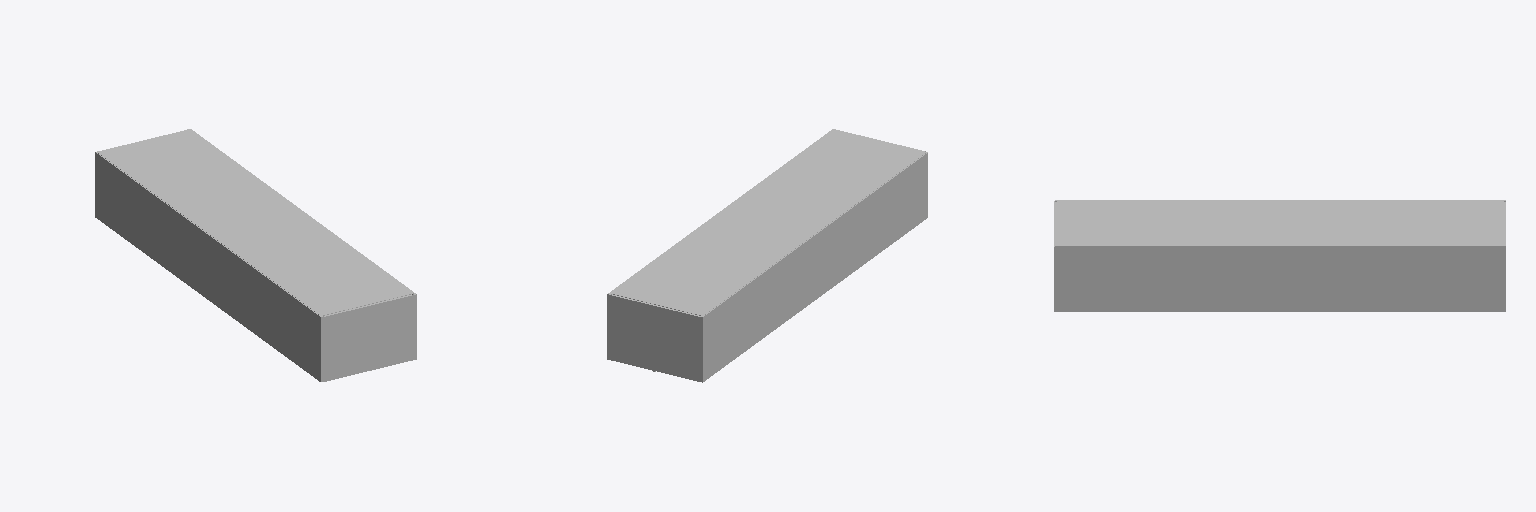
Rendered from lokaal lamp.obj.
3 renders of one model, left to right at view 1: azimuth 30°, elevation 25°; view 2: azimuth 150°, elevation 25°; view 3: azimuth 270°, elevation 25°, orthographic.
Parts seen in each view (by area): view 1: pCube3_pCube3; view 2: pCube3_pCube3; view 3: pCube3_pCube3.
Part boxes in pixels (x1,y1,x2,y2): pCube3_pCube3: (95,129,416,381); pCube3_pCube3: (607,129,927,382); pCube3_pCube3: (1054,200,1505,311).
Size of the model in its own units: 1.76 by 1.17 by 7.2.